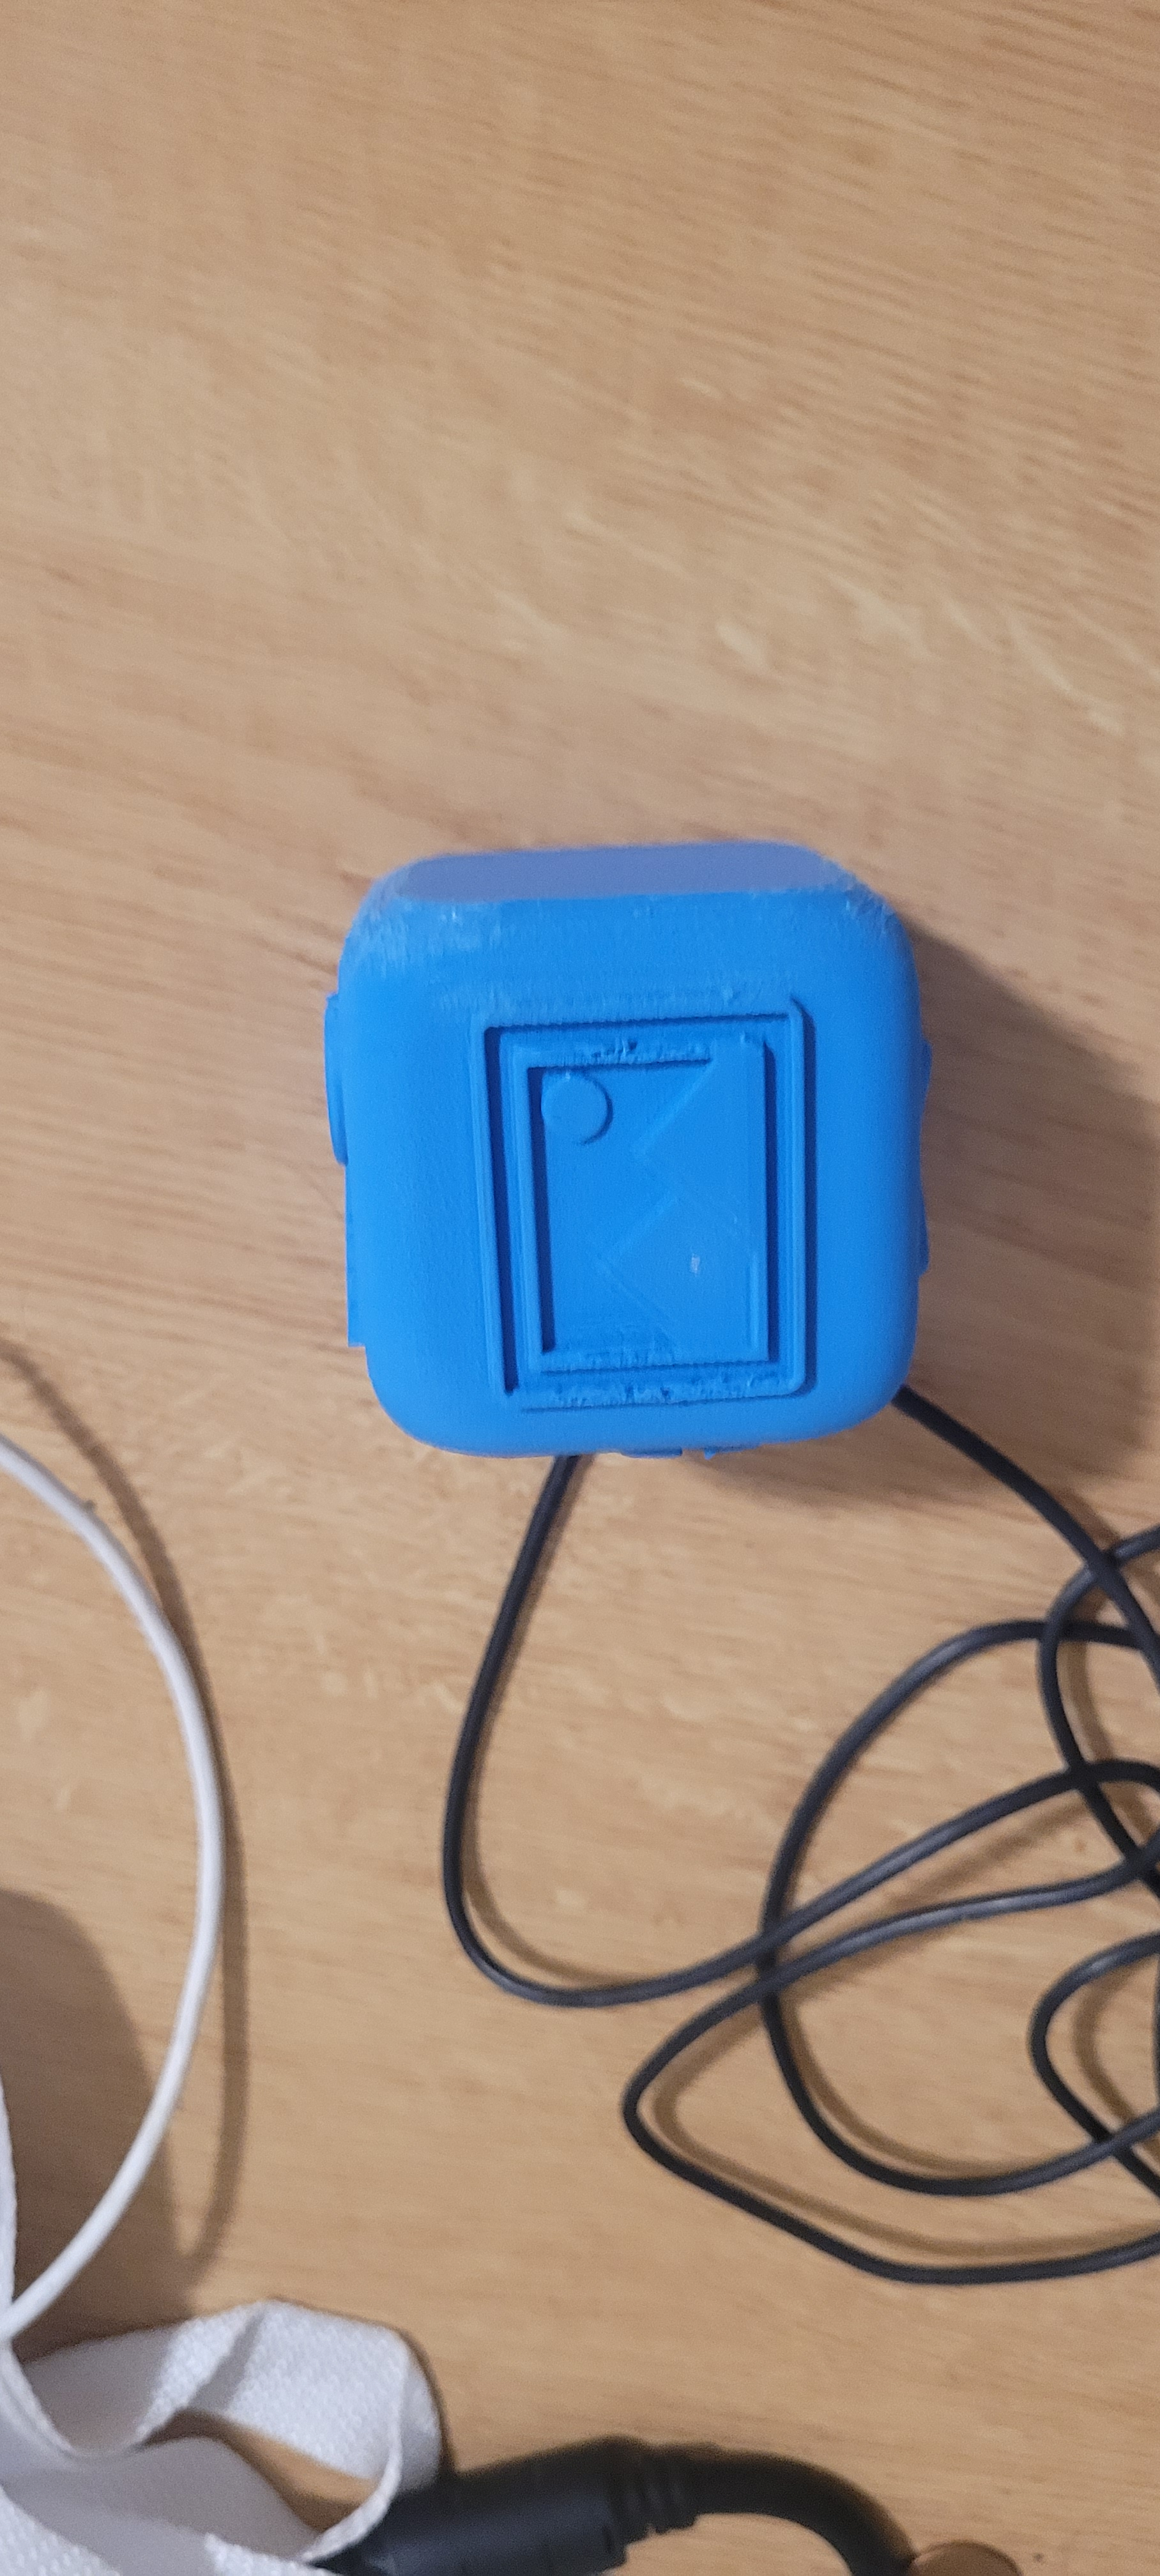Story: (411, 954, 868, 1424)
